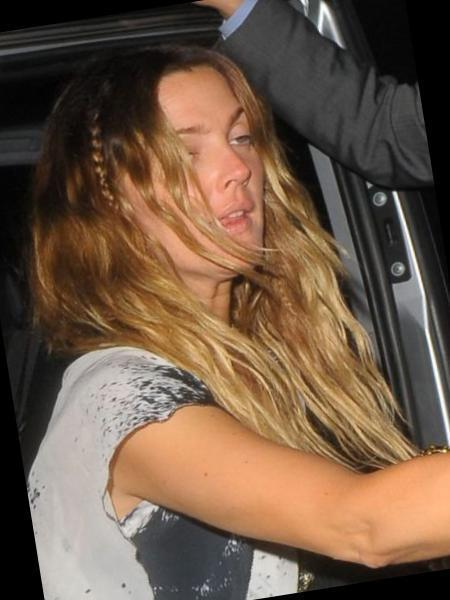Drunk: (160, 79, 264, 275)
